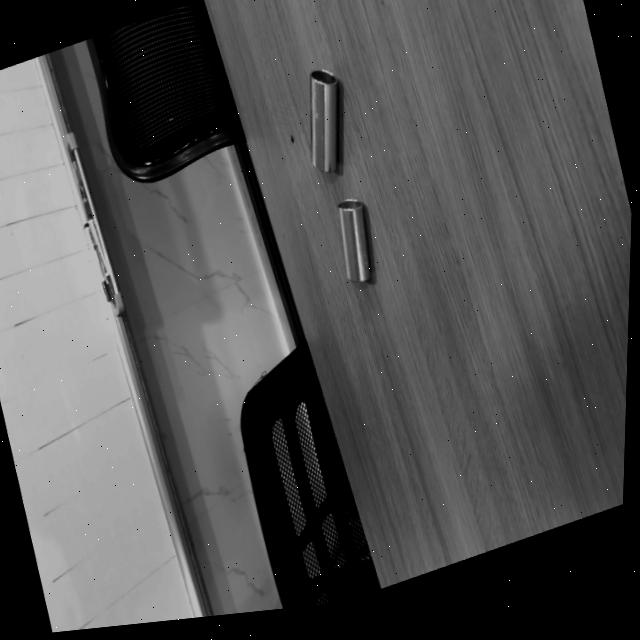Co_Lon: (309, 69, 338, 172)
Co_Nho: (336, 198, 372, 284)
